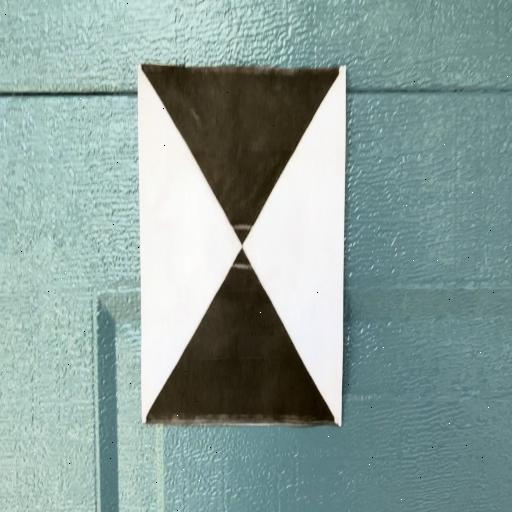target: (140, 66, 342, 424)
